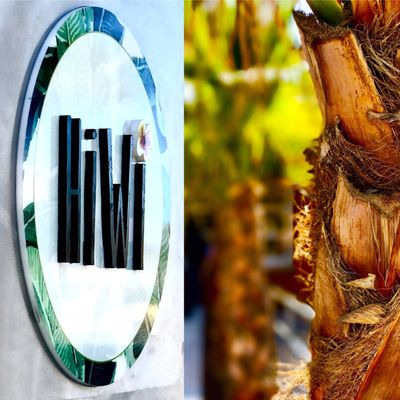sandwich: (288, 2, 400, 395)
